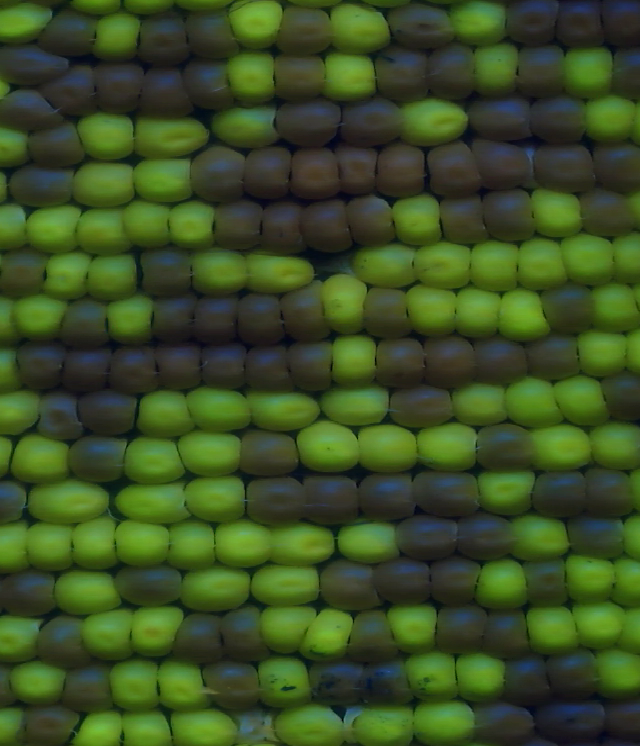fluorescent: (19, 478, 117, 525), (123, 155, 207, 209), (174, 568, 260, 620), (242, 243, 321, 296), (74, 105, 146, 162), (104, 652, 168, 716), (398, 98, 475, 150), (324, 1, 397, 55), (65, 157, 139, 210), (326, 329, 388, 392), (71, 201, 137, 260), (541, 375, 614, 428), (244, 387, 322, 436), (267, 520, 343, 570), (350, 236, 423, 288), (109, 481, 195, 525), (320, 43, 380, 106), (49, 569, 124, 619), (382, 600, 448, 656), (555, 48, 624, 101), (500, 377, 565, 433), (295, 418, 361, 473), (7, 659, 78, 710), (467, 238, 525, 300), (178, 475, 248, 526), (132, 389, 199, 442), (184, 386, 255, 436), (180, 427, 249, 478), (355, 423, 420, 477), (211, 518, 278, 570), (496, 281, 550, 345), (225, 50, 283, 109), (152, 656, 211, 714), (413, 422, 481, 472), (507, 511, 572, 563), (210, 103, 285, 148), (181, 245, 247, 296), (130, 117, 212, 158), (225, 1, 295, 49), (445, 1, 518, 47), (248, 566, 327, 608), (452, 650, 511, 706), (252, 604, 318, 654), (38, 249, 95, 306), (118, 434, 188, 480), (21, 204, 88, 252), (464, 42, 521, 98), (127, 605, 185, 660), (576, 325, 635, 379), (164, 707, 255, 742), (411, 703, 485, 746), (333, 521, 402, 567), (254, 655, 316, 706), (6, 432, 69, 482), (473, 468, 537, 517), (526, 425, 592, 472), (398, 653, 460, 703), (110, 519, 177, 565), (530, 186, 587, 240), (316, 384, 391, 425), (318, 271, 366, 335), (450, 378, 510, 429), (517, 602, 579, 651), (392, 194, 449, 247), (20, 520, 79, 571), (557, 234, 616, 285), (160, 518, 221, 567), (269, 708, 347, 746), (343, 706, 417, 746), (450, 282, 501, 340), (80, 253, 141, 301), (89, 9, 142, 64), (564, 553, 620, 605), (67, 519, 124, 570), (583, 279, 640, 330), (569, 599, 627, 649), (302, 604, 355, 658), (163, 198, 215, 252), (402, 285, 456, 337), (103, 298, 160, 347), (407, 240, 469, 285), (515, 236, 569, 287), (12, 293, 67, 343), (83, 609, 133, 664), (582, 94, 640, 141), (583, 423, 640, 470), (470, 564, 527, 610), (0, 615, 47, 670), (0, 4, 53, 52), (121, 199, 174, 247), (592, 647, 640, 699), (0, 119, 47, 172), (64, 710, 124, 746), (116, 713, 177, 746), (0, 390, 43, 432), (607, 559, 640, 608), (0, 201, 31, 250)
nonfluorescent: (523, 137, 601, 195), (409, 463, 485, 520), (418, 141, 487, 202), (532, 695, 616, 745), (189, 144, 253, 208), (239, 427, 313, 482), (3, 161, 79, 212), (110, 558, 188, 606), (217, 606, 279, 666), (271, 49, 332, 109), (136, 245, 200, 302), (470, 700, 549, 746), (63, 433, 137, 482), (419, 556, 486, 610), (331, 96, 413, 140), (318, 556, 383, 611), (522, 95, 593, 145), (360, 281, 419, 341), (173, 610, 232, 670), (277, 285, 338, 343), (537, 285, 605, 337), (297, 470, 365, 522), (281, 145, 344, 201), (54, 296, 117, 352), (341, 608, 404, 664), (268, 101, 348, 145), (466, 136, 533, 188), (35, 616, 100, 669), (201, 659, 267, 711), (374, 48, 432, 107), (239, 142, 298, 200), (544, 644, 604, 701), (418, 338, 479, 394), (519, 338, 593, 384), (357, 473, 425, 523), (184, 9, 248, 62), (566, 517, 637, 564), (393, 511, 458, 562), (516, 40, 573, 98), (90, 62, 149, 118), (484, 188, 540, 247), (374, 144, 434, 199), (468, 335, 534, 385), (74, 386, 144, 433), (581, 466, 640, 521), (132, 16, 196, 66), (429, 601, 487, 656), (134, 69, 195, 121), (245, 475, 308, 525), (477, 607, 534, 662), (57, 342, 117, 394), (451, 513, 517, 560), (295, 201, 353, 254), (425, 41, 477, 100), (38, 9, 103, 56), (578, 189, 640, 238), (304, 664, 366, 713), (240, 345, 296, 399), (434, 193, 491, 246), (0, 248, 52, 306), (460, 98, 530, 141), (380, 8, 455, 48), (274, 9, 337, 56), (0, 45, 71, 86), (372, 559, 433, 606), (375, 338, 430, 390), (235, 289, 286, 345), (24, 129, 92, 171), (520, 559, 577, 609), (472, 425, 533, 471), (341, 195, 396, 246), (554, 1, 610, 51), (527, 470, 589, 515), (333, 141, 382, 197), (359, 661, 416, 709), (181, 60, 237, 108), (146, 299, 202, 347), (388, 387, 455, 427), (0, 82, 57, 129), (506, 1, 565, 46), (108, 345, 161, 394), (586, 146, 640, 194), (1, 571, 56, 618), (259, 204, 310, 254), (190, 293, 240, 344), (505, 657, 557, 705), (287, 340, 334, 393), (37, 386, 84, 438), (22, 704, 79, 746), (50, 65, 96, 117), (599, 1, 640, 57), (208, 199, 261, 242), (63, 664, 112, 709), (151, 348, 206, 388), (197, 343, 247, 385), (600, 371, 640, 423), (599, 693, 640, 741), (610, 46, 640, 99), (0, 481, 33, 524)
